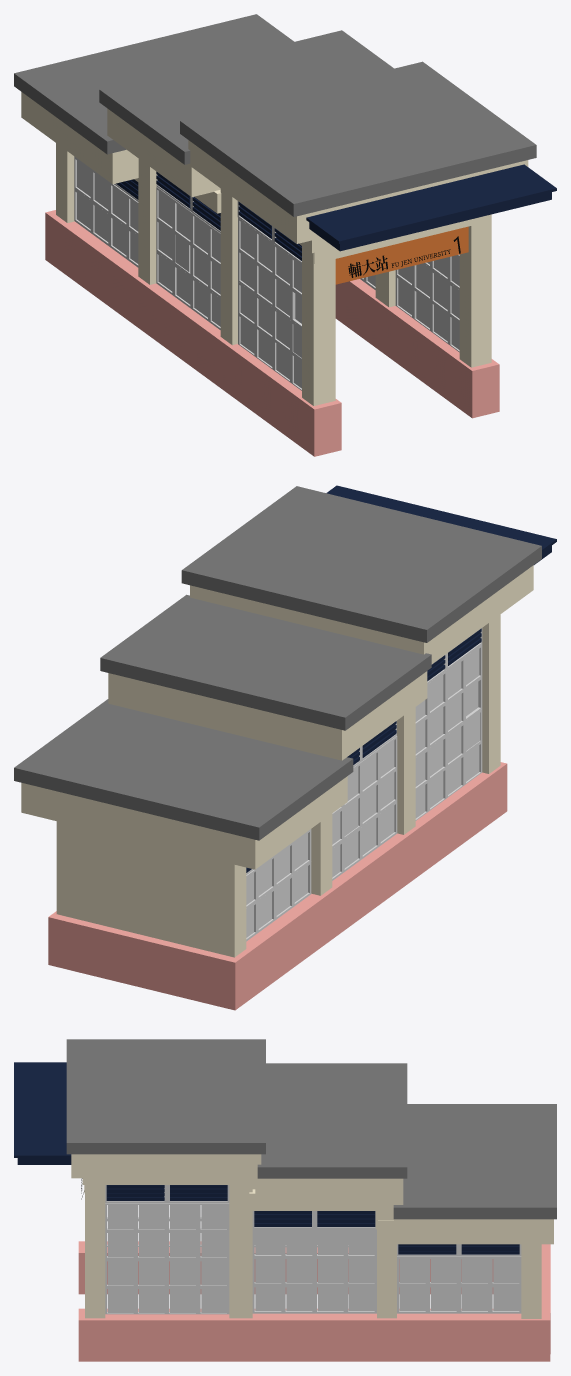
The model's file is FJU Station.fbx.
The picture shows the model from 3 angles, top to bottom: view 1: azimuth 30°, elevation 25°; view 2: azimuth 150°, elevation 25°; view 3: azimuth 270°, elevation 25°; orthographic projection. The views are drawn at different scales.
Visible parts, largest first — view 1: Cube.021, Cube.003, Cube.032, Cube.004, Cube.014, 立方體.001, Cube.025, Cube.016, Cube.018, Cube.023, Cube.005, Cube.030 (+7 smaller); view 2: Cube.021, Cube.004, Cube.032, Cube.003, Cube.006, Cube.030, Cube.005, Cube.007, Cube.018, Cube.001, Cube.025, 立方體.001 (+4 smaller); view 3: Cube.021, Cube.014, Cube.004, Cube.032, 立方體.001, Cube.018, Cube.005, Cube.030, Cube.012, Cube.016, Cube.028, Cube.000 (+40 smaller).
Boxes of the visible parts, left/top/right/bottom form: Cube.021: left=180, top=61, right=536, bottom=216; Cube.003: left=45, top=210, right=341, bottom=456; Cube.032: left=99, top=30, right=393, bottom=164; Cube.004: left=14, top=14, right=294, bottom=154; Cube.014: left=335, top=279, right=499, bottom=418; 立方體.001: left=306, top=164, right=556, bottom=243; Cube.025: left=302, top=246, right=333, bottom=405; Cube.016: left=459, top=214, right=491, bottom=367; Cube.018: left=188, top=140, right=528, bottom=243; Cube.023: left=335, top=226, right=468, bottom=284; Cube.005: left=21, top=92, right=138, bottom=184; Cube.030: left=107, top=108, right=220, bottom=196; Cube.021: left=181, top=486, right=541, bottom=642; Cube.004: left=14, top=699, right=353, bottom=840; Cube.032: left=100, top=594, right=431, bottom=730; Cube.003: left=208, top=762, right=507, bottom=1010; Cube.006: left=75, top=826, right=234, bottom=957; Cube.030: left=108, top=671, right=427, bottom=760; Cube.005: left=21, top=776, right=347, bottom=869; Cube.007: left=65, top=917, right=232, bottom=1008; Cube.018: left=190, top=565, right=533, bottom=664; Cube.001: left=214, top=859, right=246, bottom=957; Cube.025: left=482, top=614, right=500, bottom=773; 立方體.001: left=326, top=485, right=556, bottom=552; Cube.021: left=66, top=1039, right=265, bottom=1154; Cube.014: left=78, top=1308, right=550, bottom=1361; Cube.004: left=393, top=1104, right=556, bottom=1219; Cube.032: left=257, top=1063, right=407, bottom=1178; 立方體.001: left=14, top=1062, right=71, bottom=1157; Cube.018: left=71, top=1154, right=261, bottom=1178; Cube.005: left=394, top=1219, right=553, bottom=1244; Cube.030: left=255, top=1178, right=403, bottom=1204; Cube.012: left=229, top=1185, right=252, bottom=1318; Cube.016: left=85, top=1185, right=105, bottom=1318; Cube.028: left=377, top=1211, right=396, bottom=1318; Cube.000: left=521, top=1244, right=541, bottom=1318.
Bounding box in the file's own units: 6813 × 7094 × 15067.
